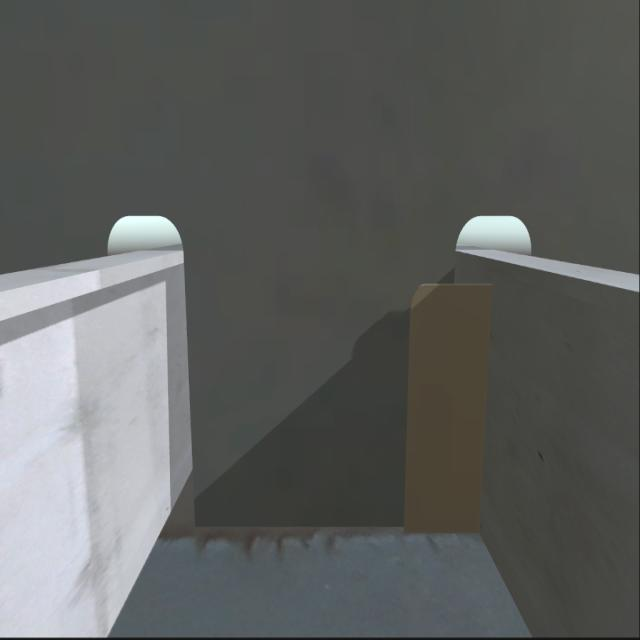fillet_yong_jeop_jang: (185, 512, 486, 540)
longi_yong_jeop_jang: (474, 277, 498, 539)
plate_CP05: (399, 282, 493, 530)
